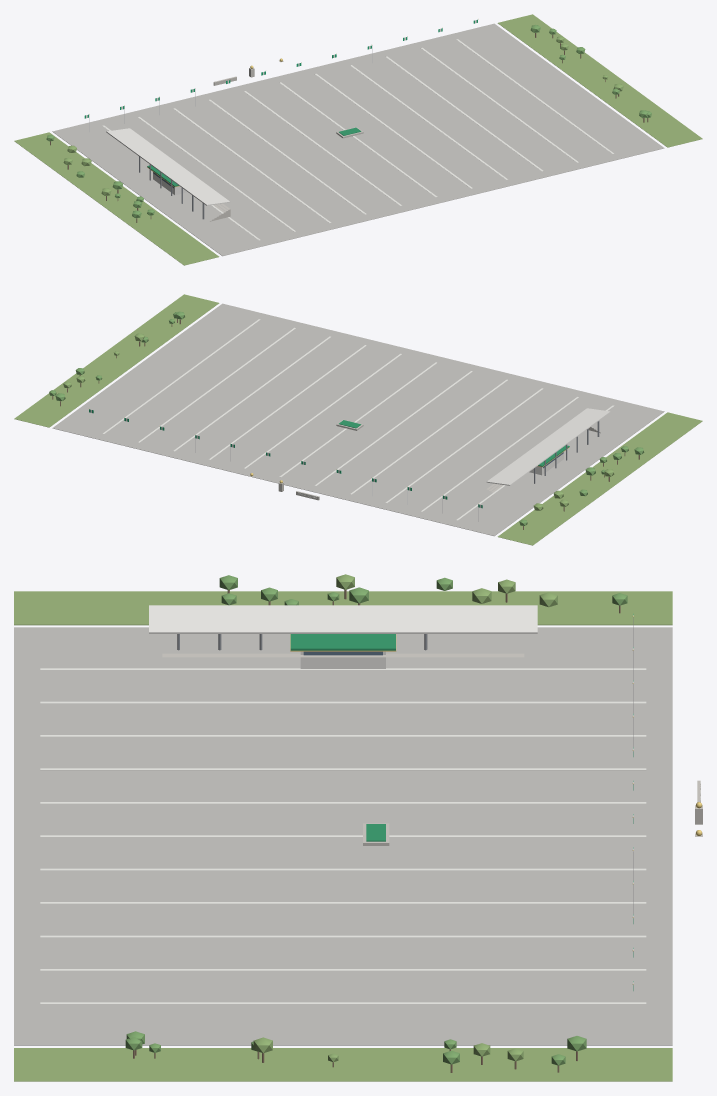
Rendered from eagle_square.glb.
3 views of the same model, one above another, from view 1: azimuth 30°, elevation 25°; view 2: azimuth 150°, elevation 25°; view 3: azimuth 270°, elevation 25° (orthographic). The views are drawn at different scales.
Visible parts, largest first — view 1: BLD_eagle_square; view 2: BLD_eagle_square; view 3: BLD_eagle_square.
Part boxes in pixels (x1,y1,x2,y2): BLD_eagle_square: (14, 14, 702, 265); BLD_eagle_square: (14, 294, 702, 545); BLD_eagle_square: (14, 574, 702, 1081).
Size of the model in its own units: 352 by 13.7 by 209.
